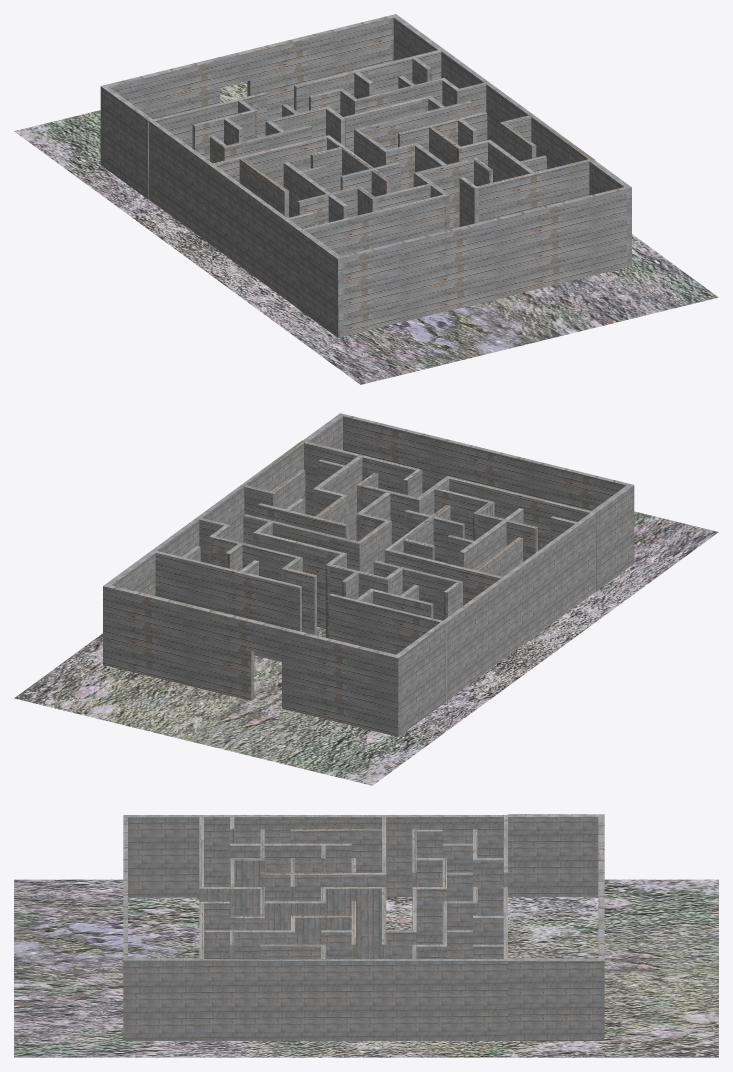
Rendered from Maze_One.glb.
The picture shows the model from 3 angles, top to bottom: view 1: azimuth 30°, elevation 25°; view 2: azimuth 150°, elevation 25°; view 3: azimuth 270°, elevation 25°; orthographic projection.
Parts seen in each view (by area): view 1: Maze_One, Plane; view 2: Maze_One, Plane; view 3: Maze_One, Plane.
Boxes of the visible parts, bbox=[...] form: Maze_One: bbox=[100, 14, 631, 337]; Plane: bbox=[14, 81, 718, 384]; Maze_One: bbox=[103, 413, 634, 736]; Plane: bbox=[14, 511, 718, 785]; Maze_One: bbox=[123, 814, 604, 1040]; Plane: bbox=[14, 879, 718, 1057].
Bounding box in the file's own units: 19.76 × 4.16 × 33.11.
Materials: 2 (2 with a texture image).
